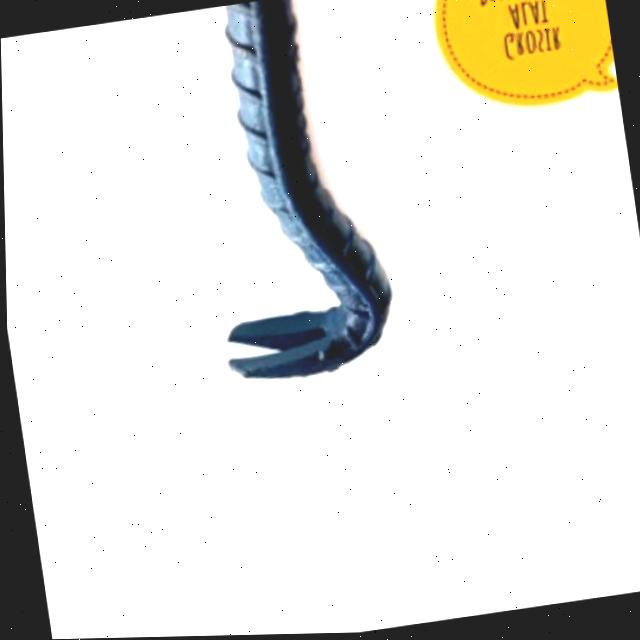crow bar: (162, 0, 410, 399)
